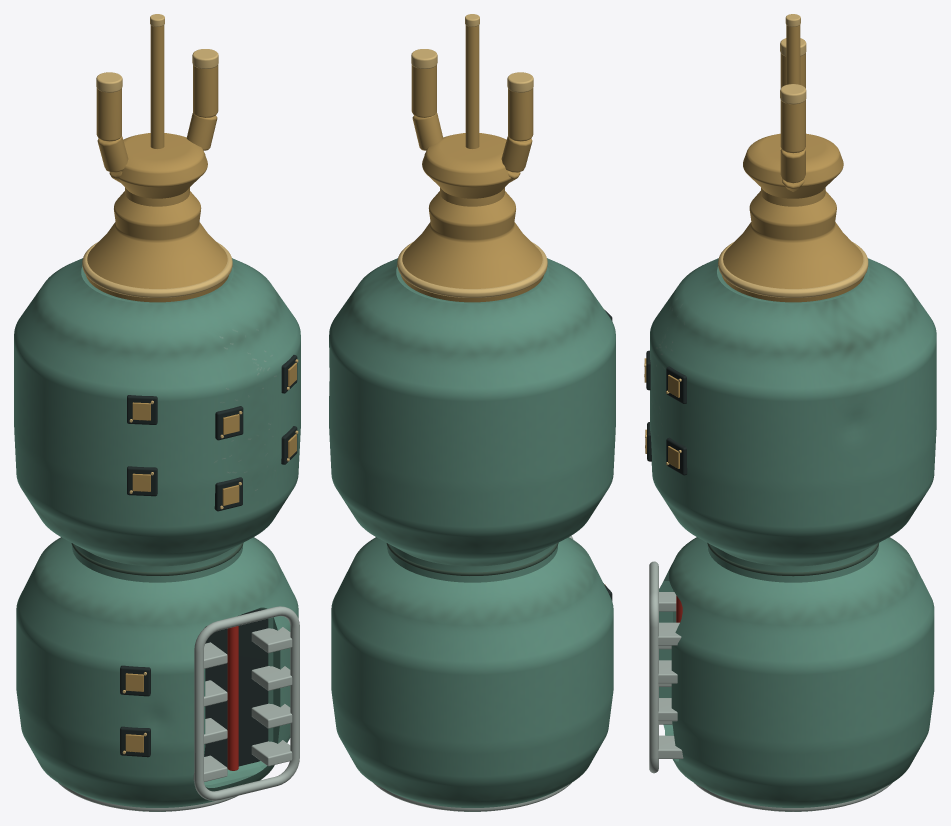
3 renders of one model, left to right at view 1: azimuth 30°, elevation 25°; view 2: azimuth 150°, elevation 25°; view 3: azimuth 270°, elevation 25°, orthographic.
Visible parts, largest first — view 1: RI04 upper rounded pod, RI04 lower rounded pod, RI04 crown stepped brass foundation, RI04 recessed service backing, RI04 curved service retaining frame, RI04 crown flared fork cradle, RI04 solid structural waist, RI04 crown central conductor, RI04 vertical red equipment core, RI04 crown rubbed mounting lip, RI04 crown outer conductor.002, RI04 crown outer conductor.005 (+15 smaller); view 2: RI04 upper rounded pod, RI04 lower rounded pod, RI04 crown stepped brass foundation, RI04 crown flared fork cradle, RI04 solid structural waist, RI04 crown central conductor, RI04 crown rubbed mounting lip, RI04 crown outer conductor.002, RI04 crown outer conductor.005, RI04 crown outer conductor.001, RI04 ground contact rim, RI04 crown outer conductor.004 (+2 smaller); view 3: RI04 upper rounded pod, RI04 lower rounded pod, RI04 crown stepped brass foundation, RI04 crown flared fork cradle, RI04 solid structural waist, RI04 curved service retaining frame, RI04 crown rubbed mounting lip, RI04 crown outer conductor.005, RI04 crown central conductor, RI04 ground contact rim, RI04 crown outer conductor.004, RI04 waist contaminated seam (+1 smaller).
Boxes of the visible parts, x1,y1,x2,y2 form: RI04 upper rounded pod: [14, 258, 300, 566]; RI04 lower rounded pod: [16, 537, 298, 811]; RI04 crown stepped brass foundation: [86, 191, 228, 302]; RI04 recessed service backing: [204, 609, 268, 768]; RI04 curved service retaining frame: [194, 606, 299, 800]; RI04 crown flared fork cradle: [118, 133, 207, 198]; RI04 solid structural waist: [72, 544, 242, 582]; RI04 crown central conductor: [150, 25, 164, 148]; RI04 vertical red equipment core: [227, 626, 238, 770]; RI04 crown rubbed mounting lip: [82, 242, 232, 297]; RI04 crown outer conductor.002: [96, 88, 121, 141]; RI04 crown outer conductor.005: [193, 65, 218, 117]; RI04 upper rounded pod: [329, 258, 615, 566]; RI04 lower rounded pod: [331, 537, 613, 811]; RI04 crown stepped brass foundation: [401, 191, 543, 302]; RI04 crown flared fork cradle: [422, 133, 511, 198]; RI04 solid structural waist: [387, 544, 557, 582]; RI04 crown central conductor: [465, 25, 479, 148]; RI04 crown rubbed mounting lip: [397, 242, 547, 297]; RI04 crown outer conductor.002: [508, 88, 533, 141]; RI04 crown outer conductor.005: [411, 65, 436, 117]; RI04 crown outer conductor.001: [501, 136, 532, 172]; RI04 ground contact rim: [373, 783, 571, 811]; RI04 crown outer conductor.004: [412, 112, 443, 150]; RI04 upper rounded pod: [650, 258, 936, 566]; RI04 lower rounded pod: [659, 537, 934, 811]; RI04 crown stepped brass foundation: [722, 191, 864, 302]; RI04 crown flared fork cradle: [743, 133, 843, 198]; RI04 solid structural waist: [707, 544, 878, 582]; RI04 curved service retaining frame: [649, 561, 658, 773]; RI04 crown rubbed mounting lip: [718, 242, 868, 297]; RI04 crown outer conductor.005: [780, 100, 805, 153]; RI04 crown central conductor: [786, 25, 800, 84]; RI04 ground contact rim: [694, 783, 891, 811]; RI04 crown outer conductor.004: [780, 149, 805, 183]; RI04 waist contaminated seam: [707, 542, 878, 576].
Bounding box in the file's own units: 1.24 × 3.61 × 1.26.
8 materials, 2 textured.
